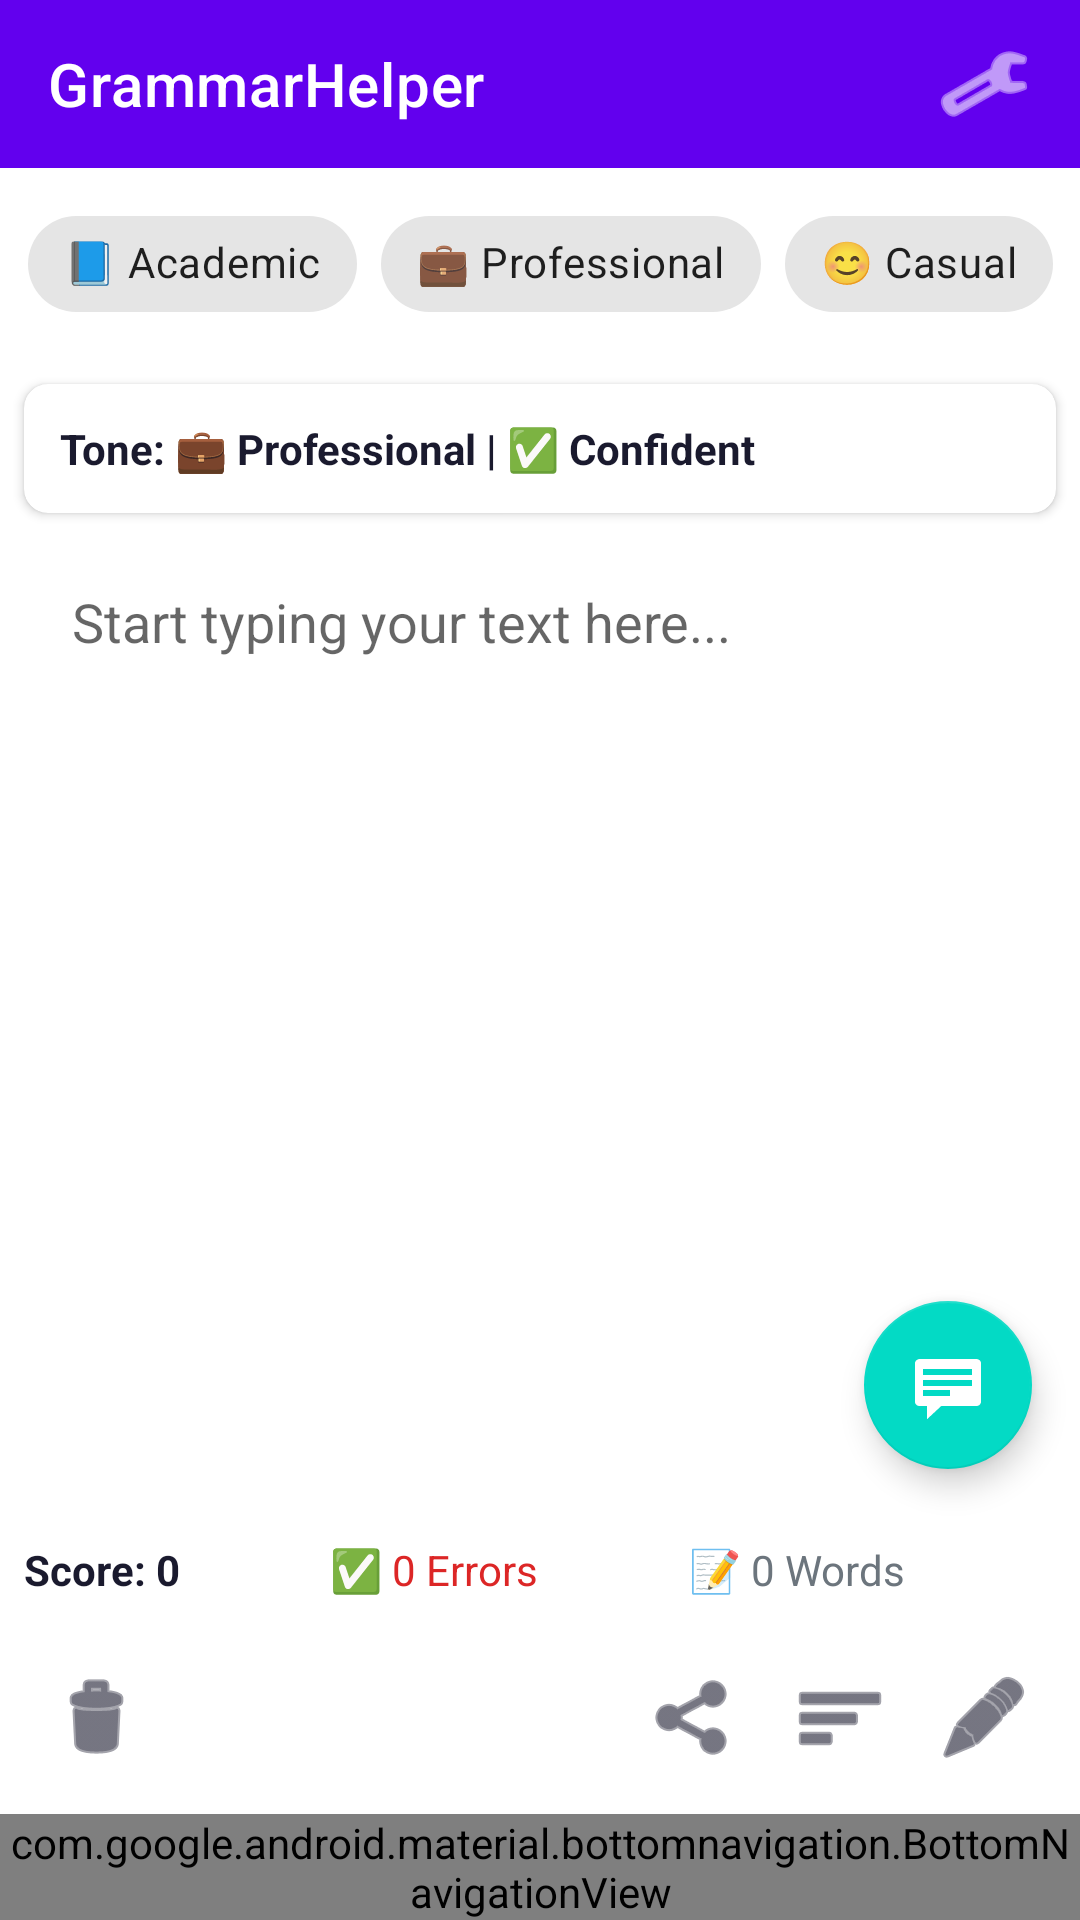

Icons on this 1080*1920 Android screen, each with the point to tap as [x,y]:
AI Chatbot: [948,1385]
Clear: [96,1716]
Settings: [984,84]
Share: [691,1717]
